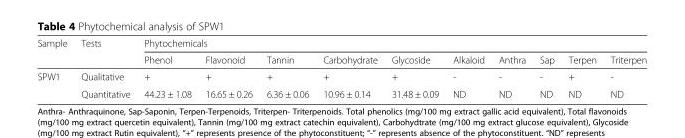table: (36, 37, 646, 99)
table column: (315, 37, 383, 99), (73, 37, 136, 99), (383, 37, 445, 99), (136, 37, 197, 99), (197, 37, 258, 99), (258, 37, 315, 99), (445, 37, 490, 99), (602, 37, 646, 99), (490, 37, 532, 99), (560, 37, 602, 99), (36, 37, 73, 99), (532, 37, 560, 99)
table column header: (36, 37, 646, 67)
table row: (36, 67, 646, 84), (36, 51, 646, 67), (36, 84, 646, 99), (36, 37, 646, 51)
table spanning cell: (136, 37, 646, 51), (73, 37, 136, 67), (36, 67, 73, 99), (36, 37, 73, 67)
